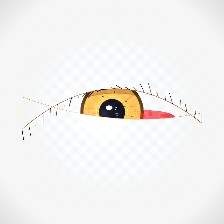hemorrhage_spot: (108, 87, 187, 150)
